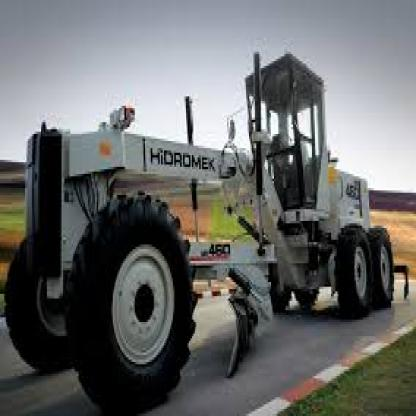bull_dozer/loader/grader: (18, 45, 414, 409)
